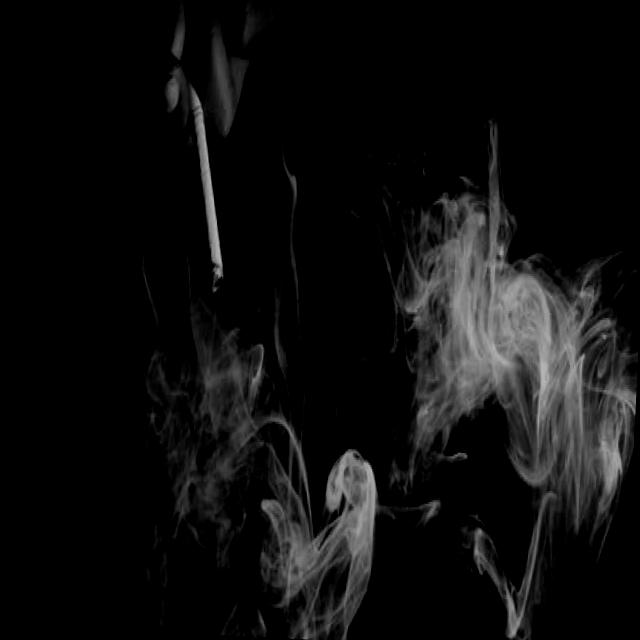cigarette: (166, 64, 237, 300)
